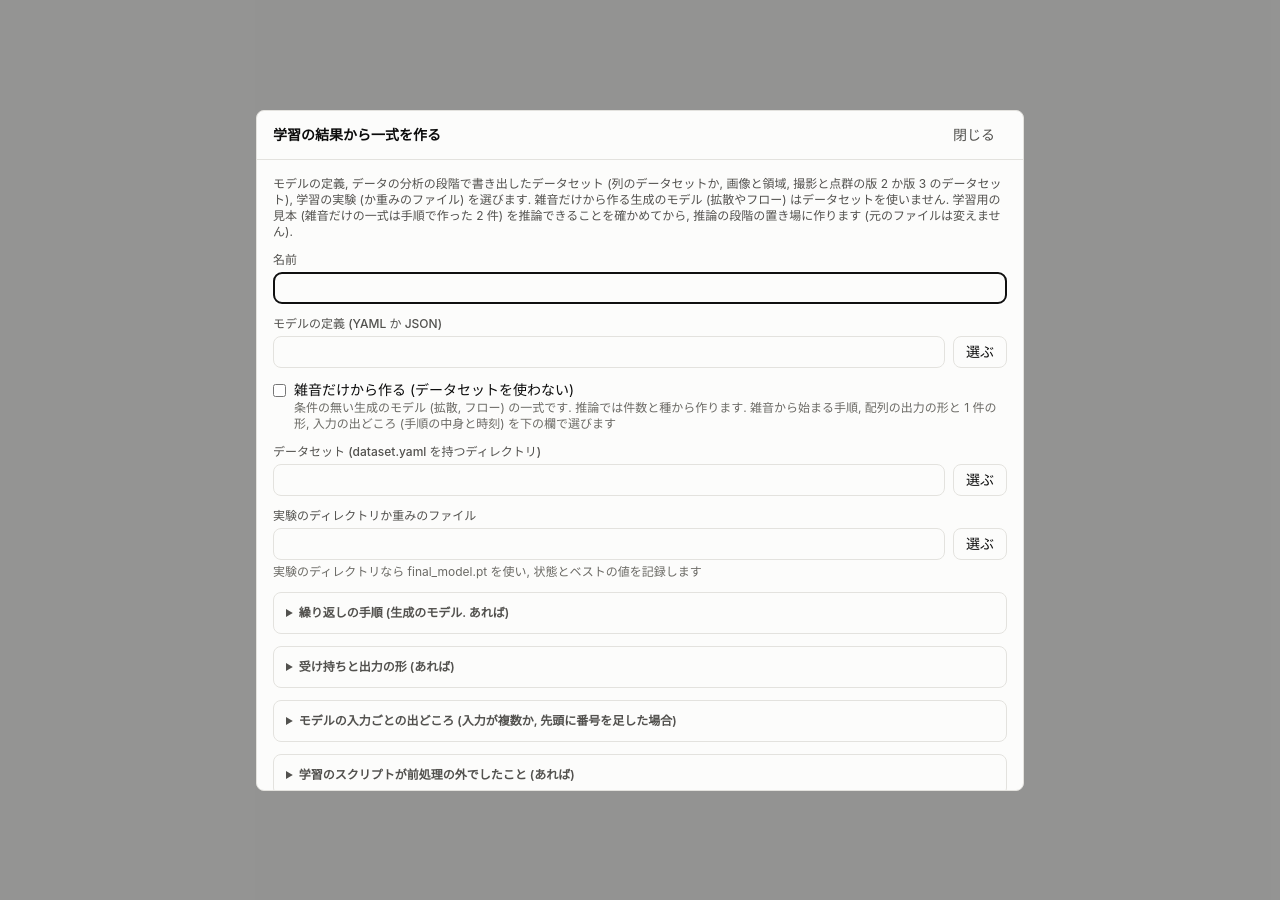
Test case: 学習の結果から作る対話 › 殻で選んだ問題を, 作る一式につなぐ既定にし, 外せる
The width and height of the screenshot is (1280, 900).
Later steps or results of the test are not shown.
Type "m" into the field labelled "名前" at (640, 288), box [273,272,1007,304]
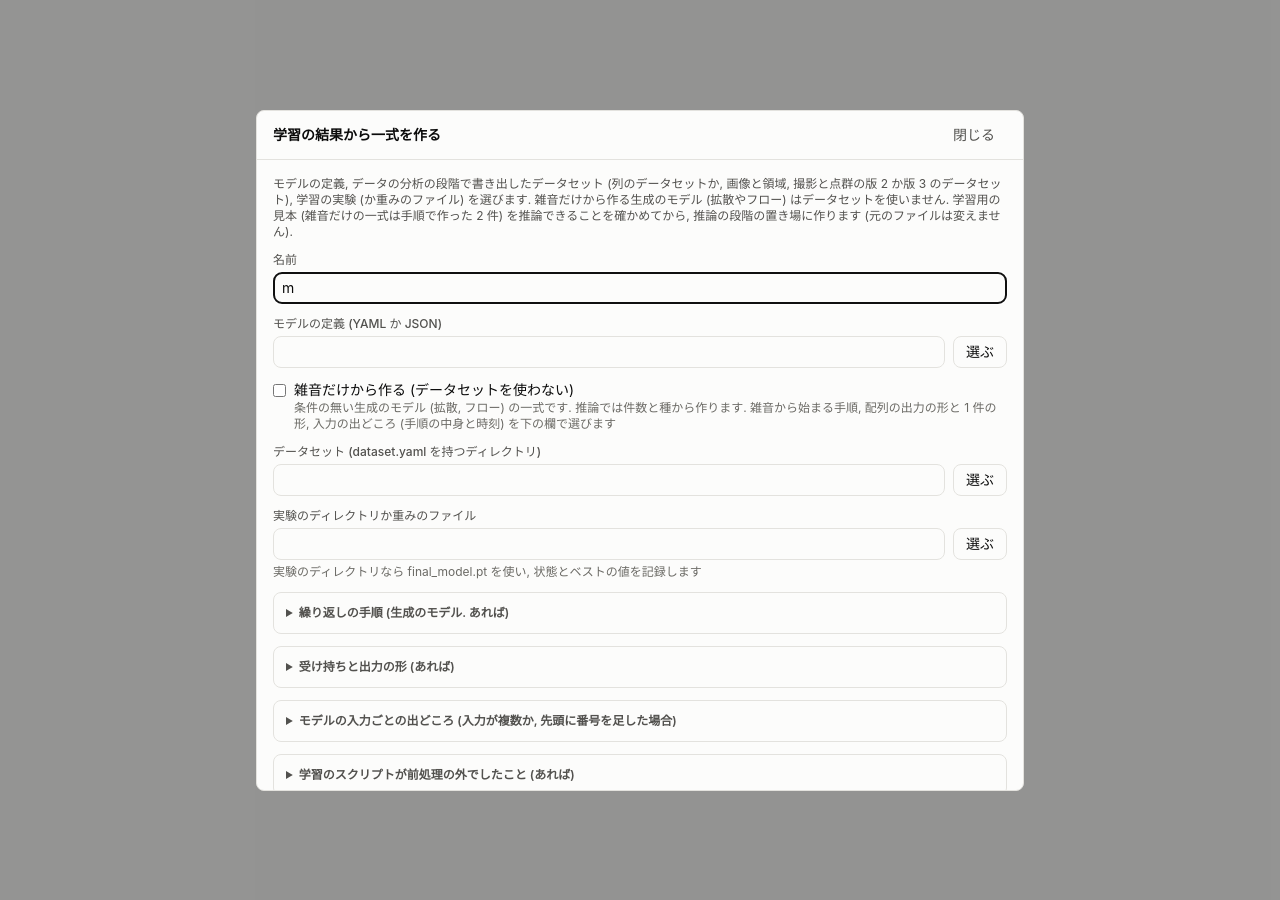
Type "/s.yaml" into the field labelled "モデルの定義 (YAML か JSON)" at (609, 352), box [273,336,945,368]
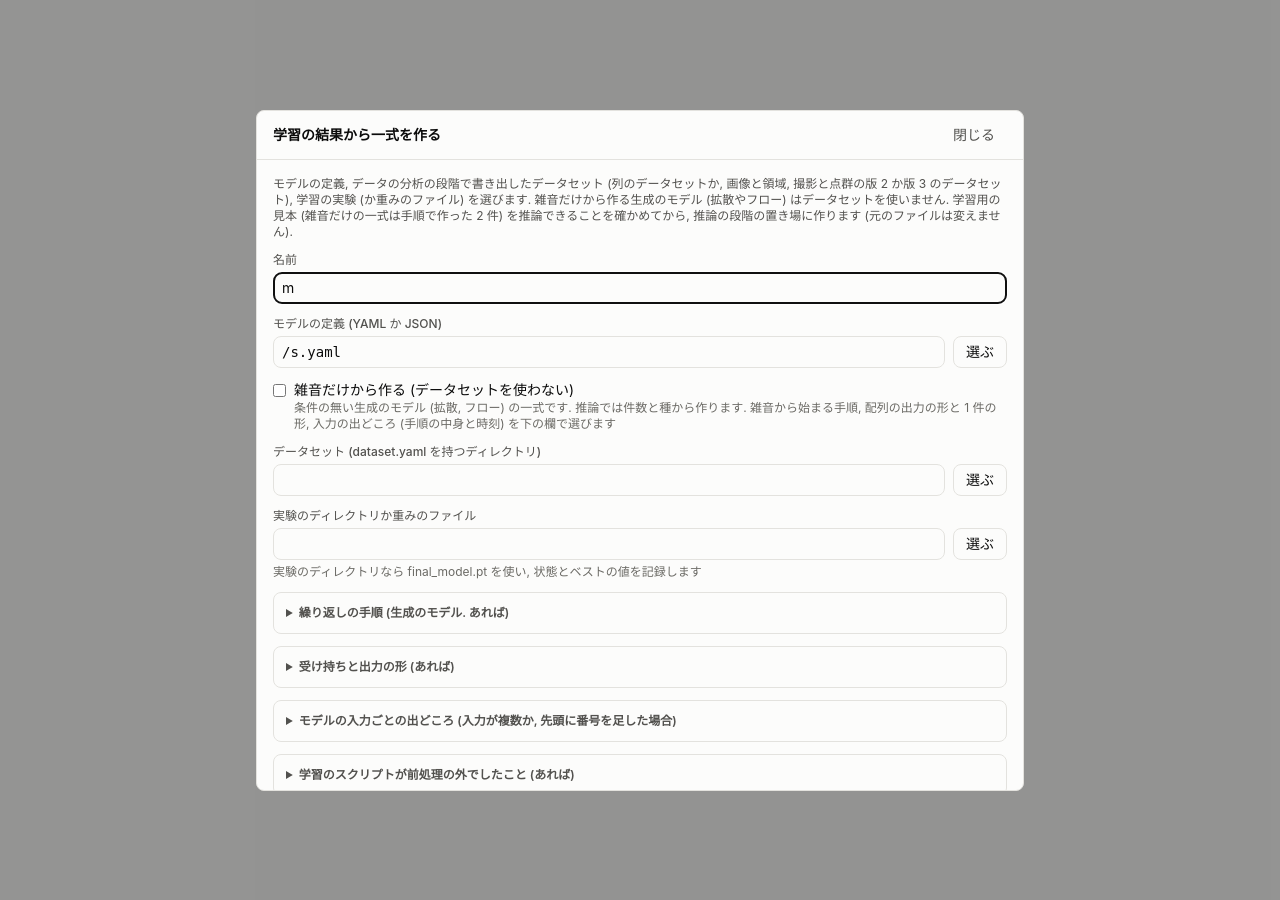
Type "/run" into the field labelled "実験のディレクトリか重みのファイル" at (609, 544), box [273,528,945,560]
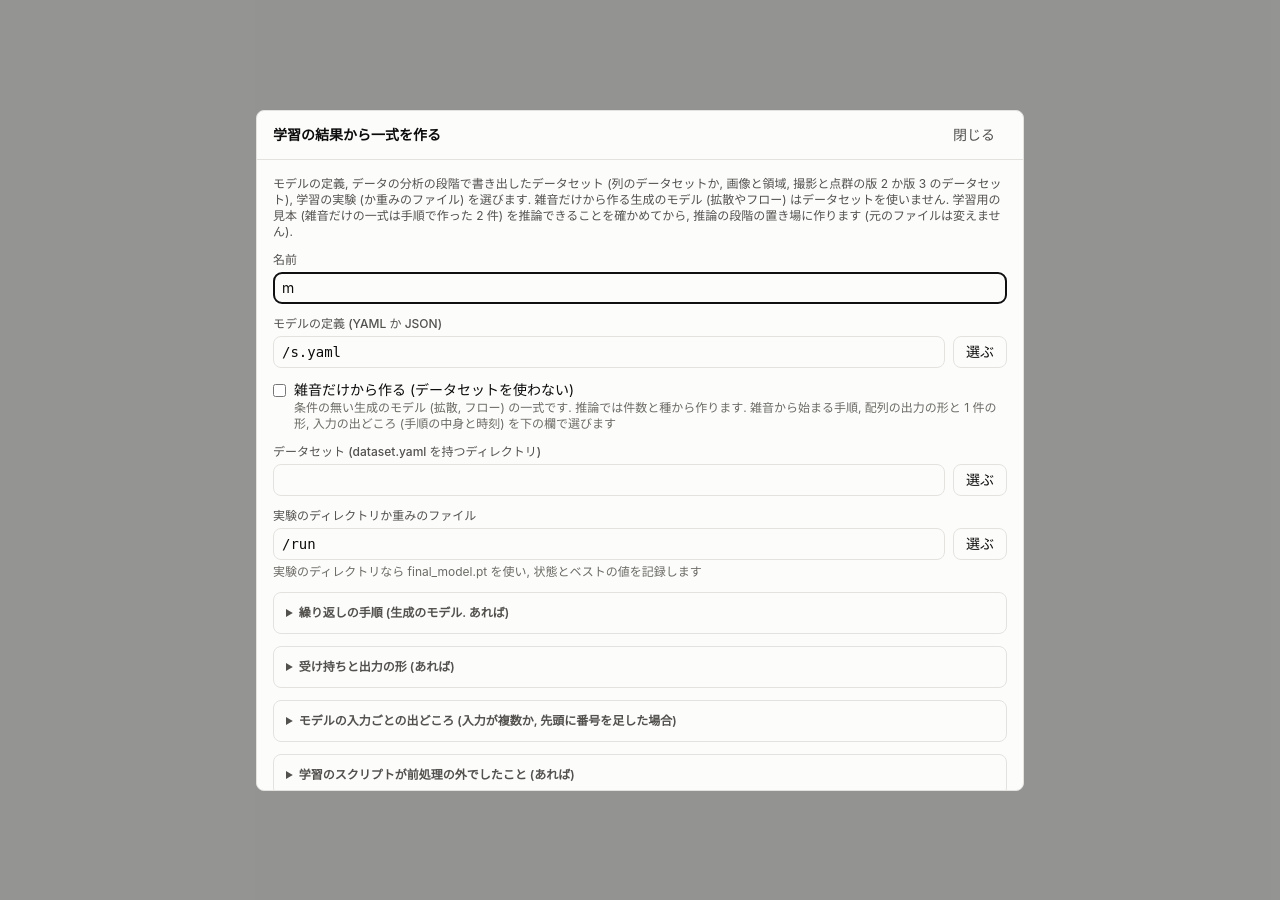
Type "/a" into the field labelled "データセット (dataset.yaml を持つディレクトリ)" at (609, 480), box [273,464,945,496]
(page scrolled)
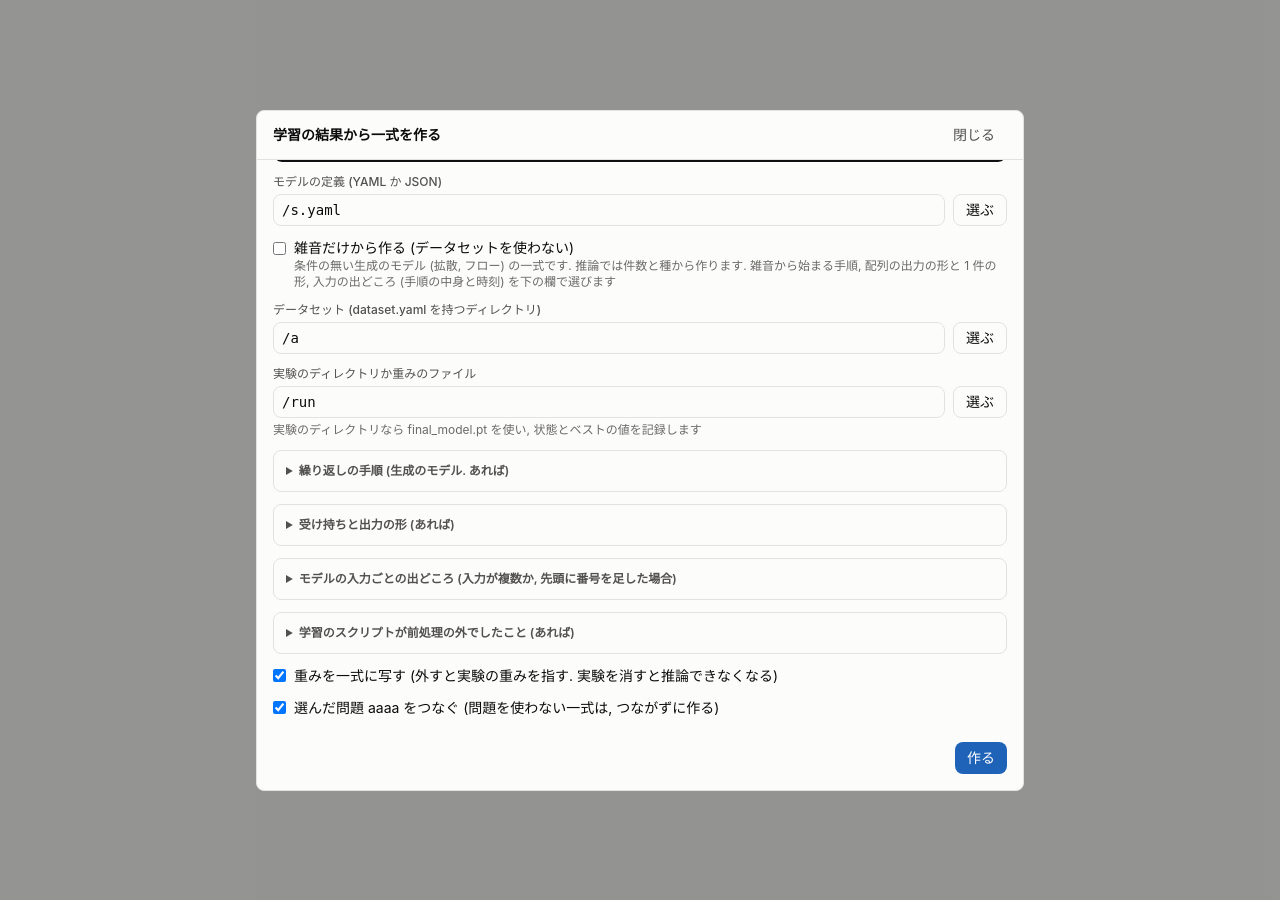
Expected: the button "作る" is enabled, [955,742,1007,774]
